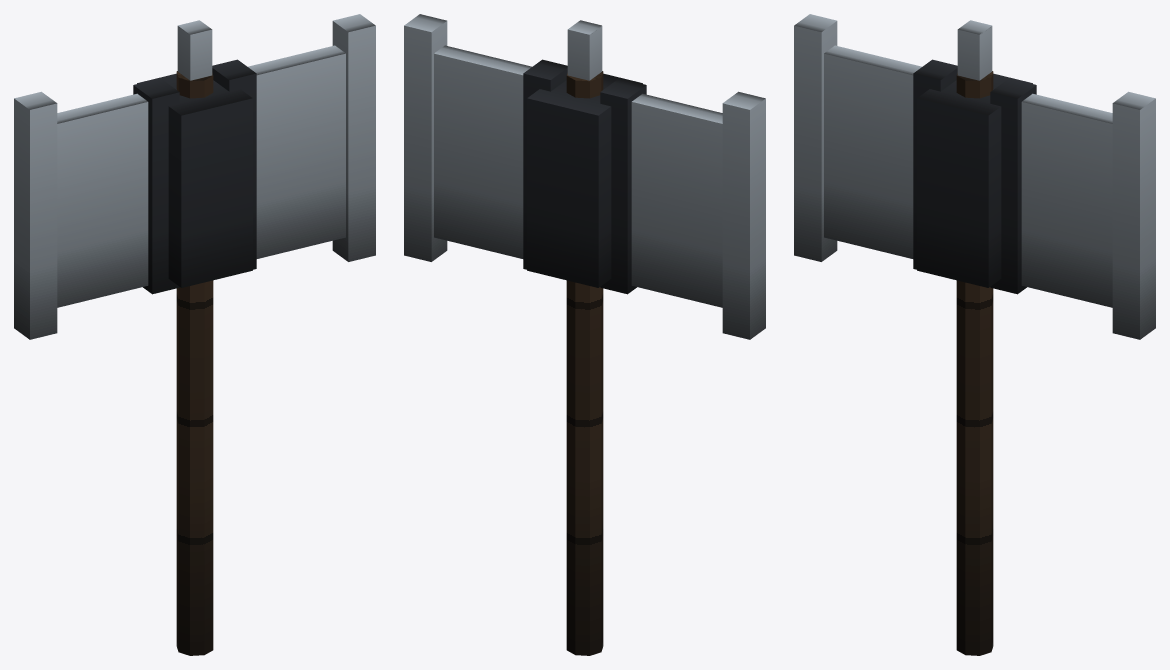
The model's file is battleaxe.gltf.
3 views of the same model, side by side, from view 1: azimuth 30°, elevation 25°; view 2: azimuth 150°, elevation 25°; view 3: azimuth 330°, elevation 25° (orthographic).
Parts seen in each view (by area): view 1: battleaxe; view 2: battleaxe; view 3: battleaxe.
Boxes of the visible parts, box(x1,y1,x2,y2) form: battleaxe: box(14, 14, 375, 655); battleaxe: box(404, 14, 765, 655); battleaxe: box(794, 14, 1155, 655).
Size of the model in its own units: 0.63 by 1.08 by 0.14.
Materials: 1 (1 with a texture image).
